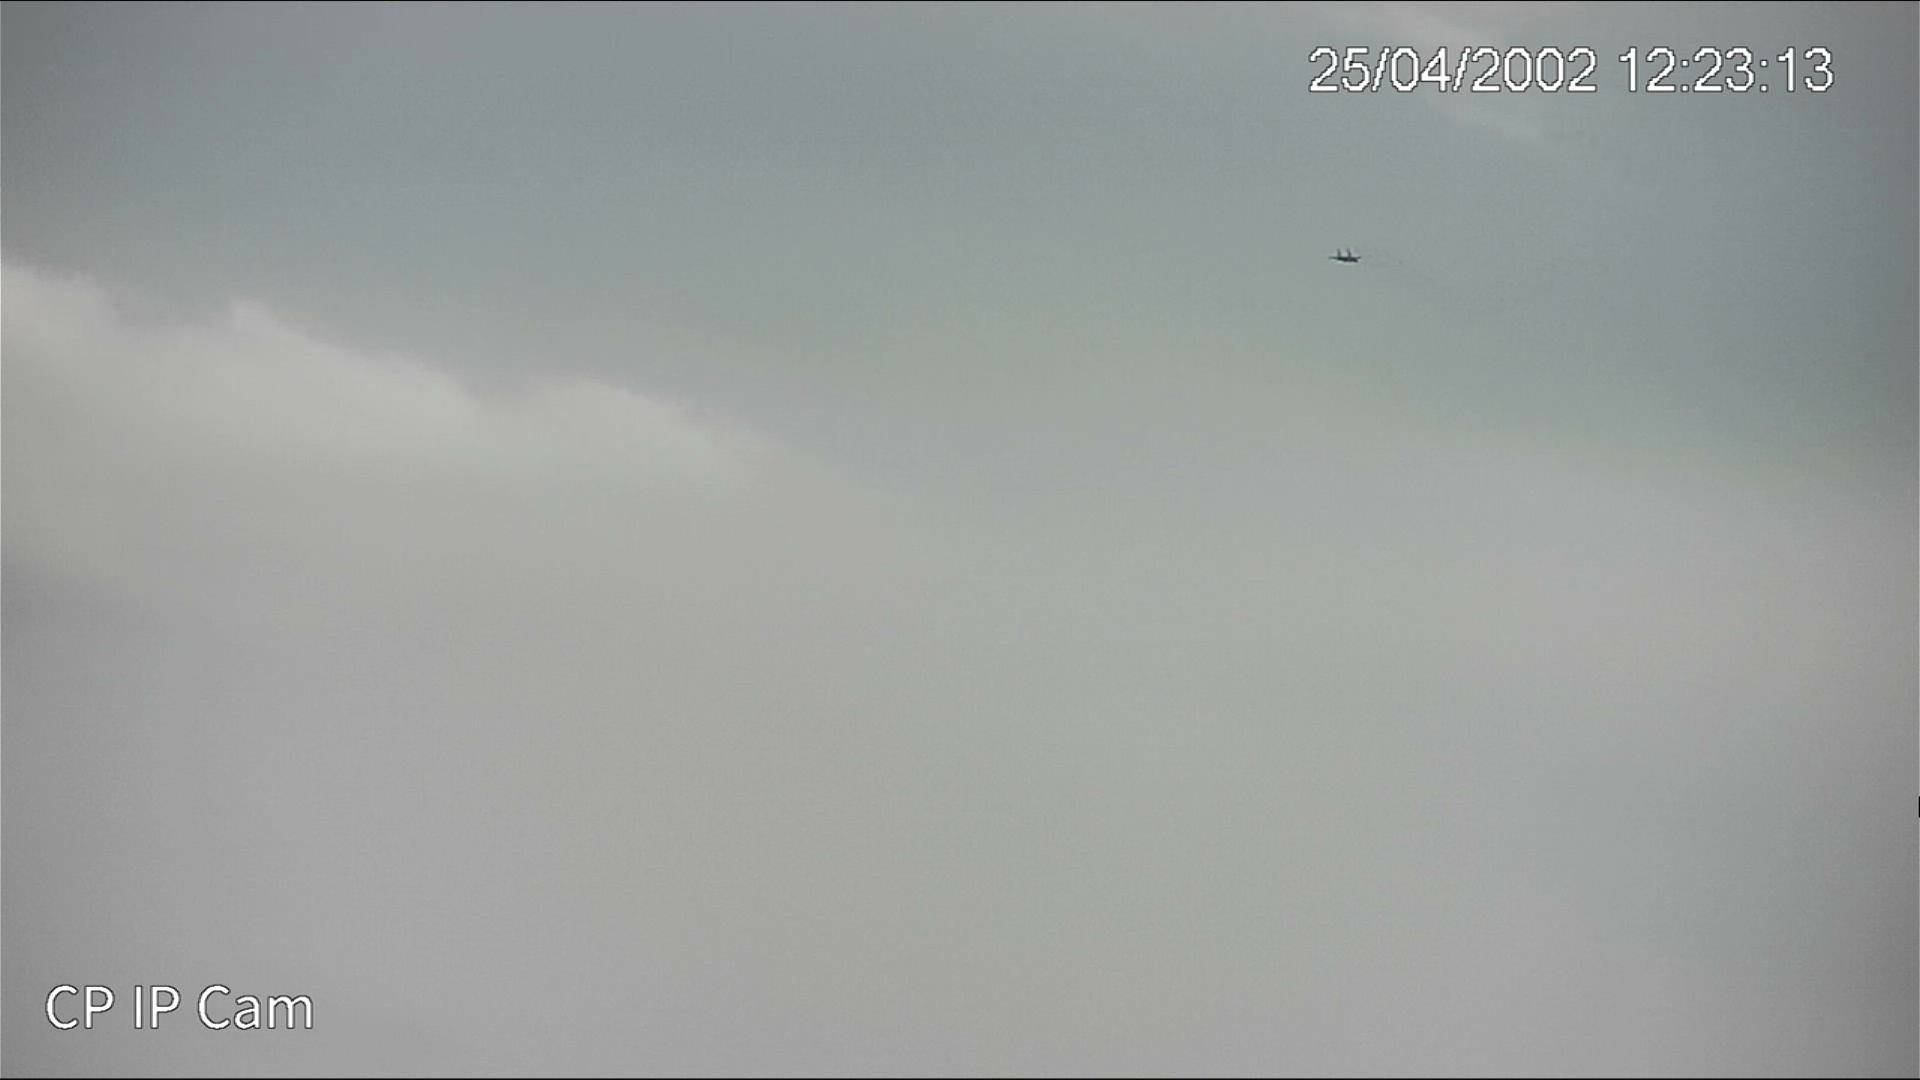SU_30: (1325, 251, 1364, 262)
